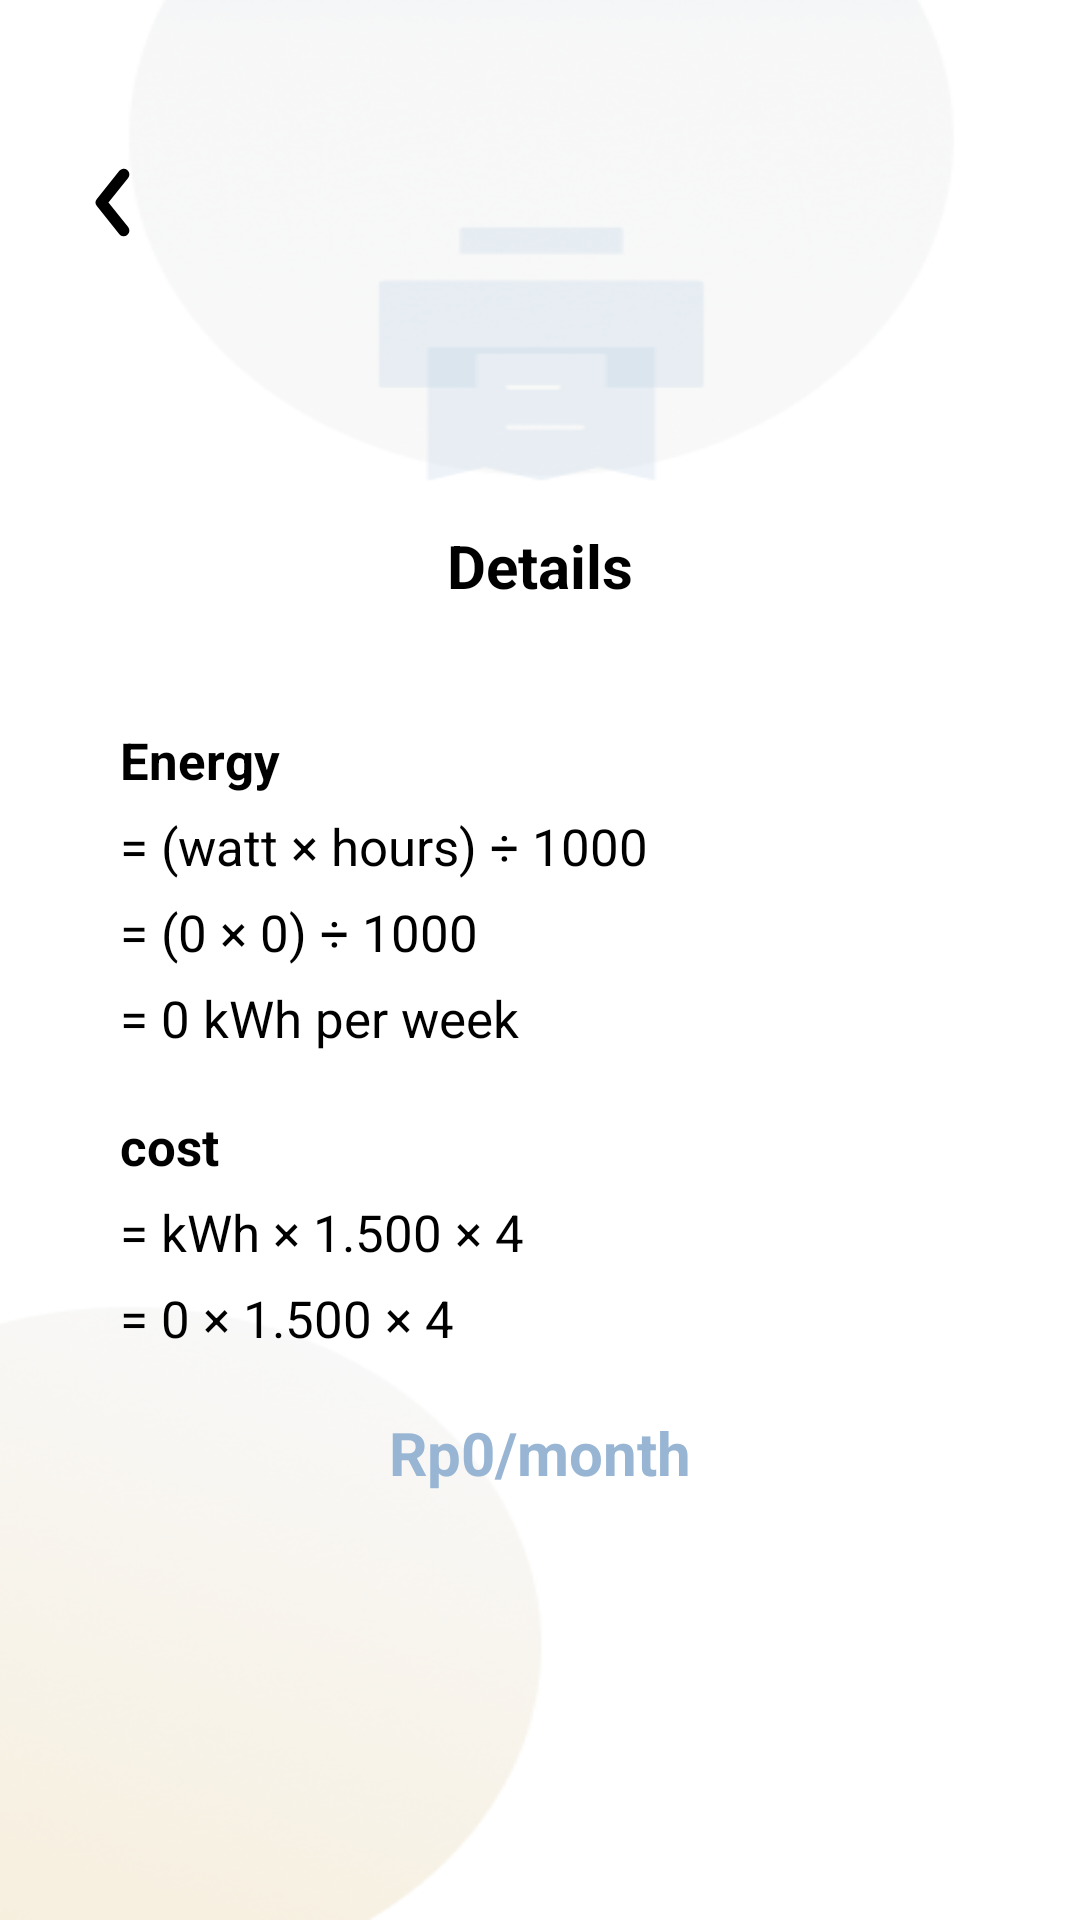

Icon click points for this 1080×1920 phone screenshot, format (x=x, y=y):
back arrow: (x=112, y=202)
